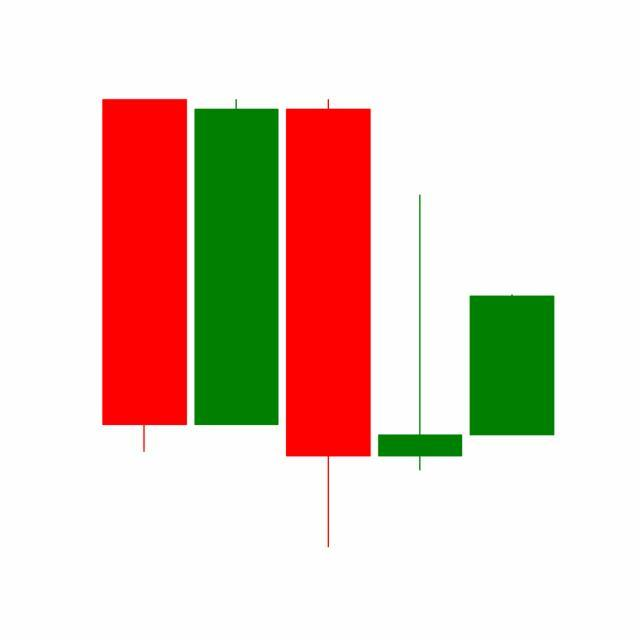Marubozu: (466, 293, 559, 437)
